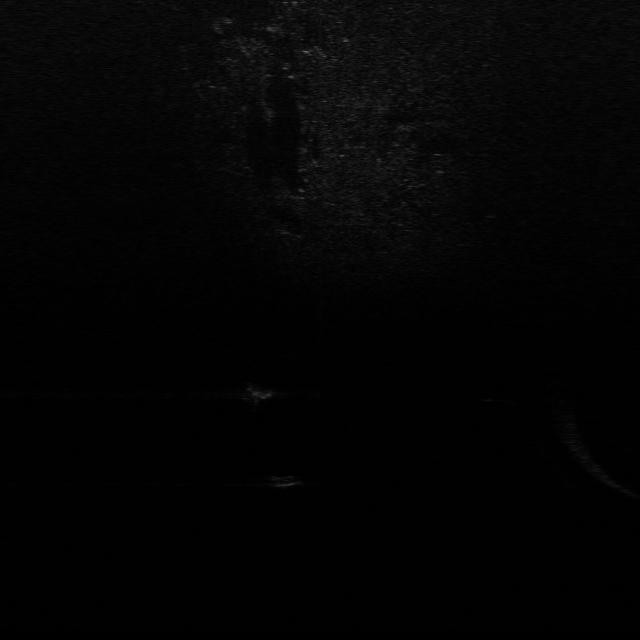cube: (262, 469, 307, 492)
square cage: (240, 376, 278, 404)
